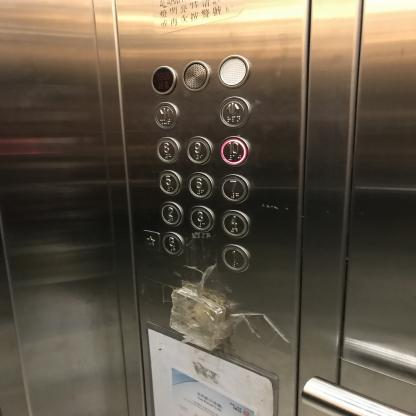1: (219, 243, 250, 273)
10: (216, 136, 251, 167)
2: (158, 200, 184, 226)
3: (187, 205, 215, 232)
4: (219, 209, 250, 238)
5: (156, 169, 182, 197)
6: (186, 172, 214, 200)
7: (218, 173, 250, 204)
8: (154, 136, 180, 164)
9: (184, 136, 212, 166)
G: (161, 231, 184, 256)
close: (152, 101, 180, 130)
empty: (216, 53, 250, 89)
open: (217, 96, 251, 128)
s: (138, 229, 159, 251)
speaker: (180, 60, 210, 92)
text_overweight: (149, 65, 177, 95)
